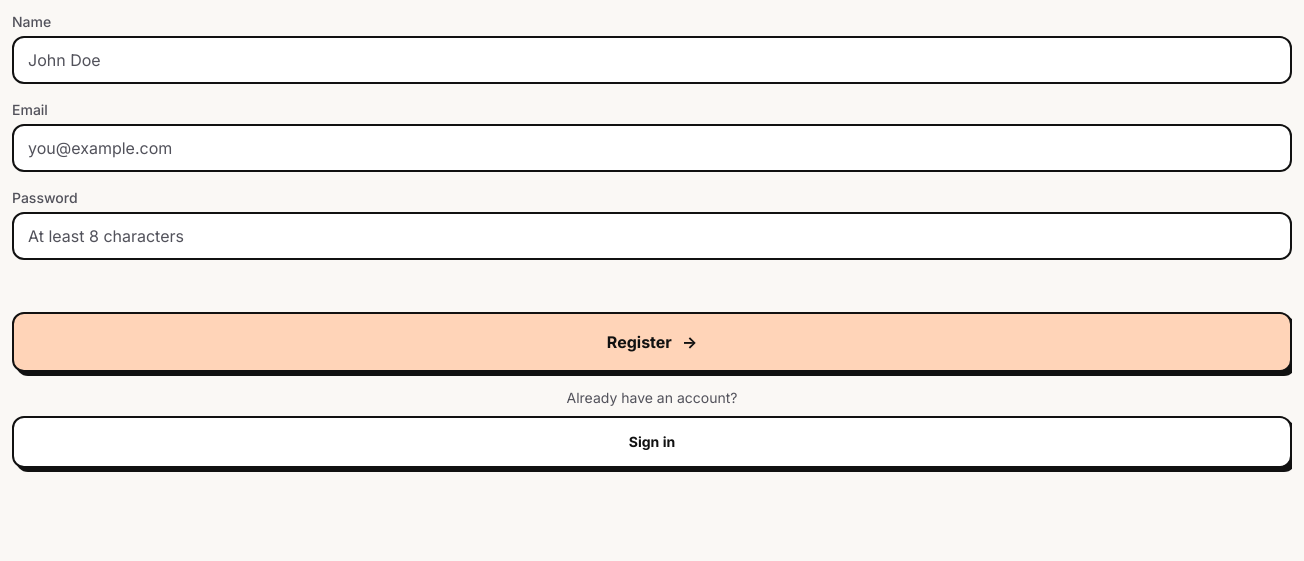
Test case: RegisterForm › should clear a field error when the user edits that field
Click the button "Register →": x=652, y=342 [12,312,1292,372]
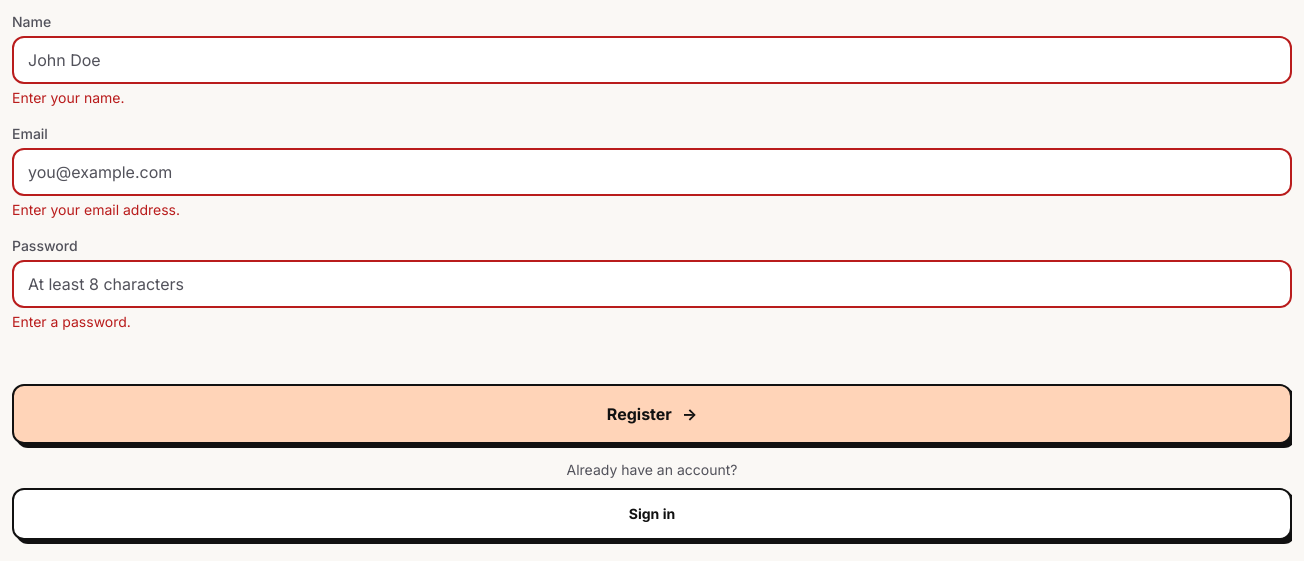
Expected: the text "Enter your name." is shown, [12,89,125,106]
In the field labelled "Name": x=652, y=60 [12,36,1292,84], type "John"
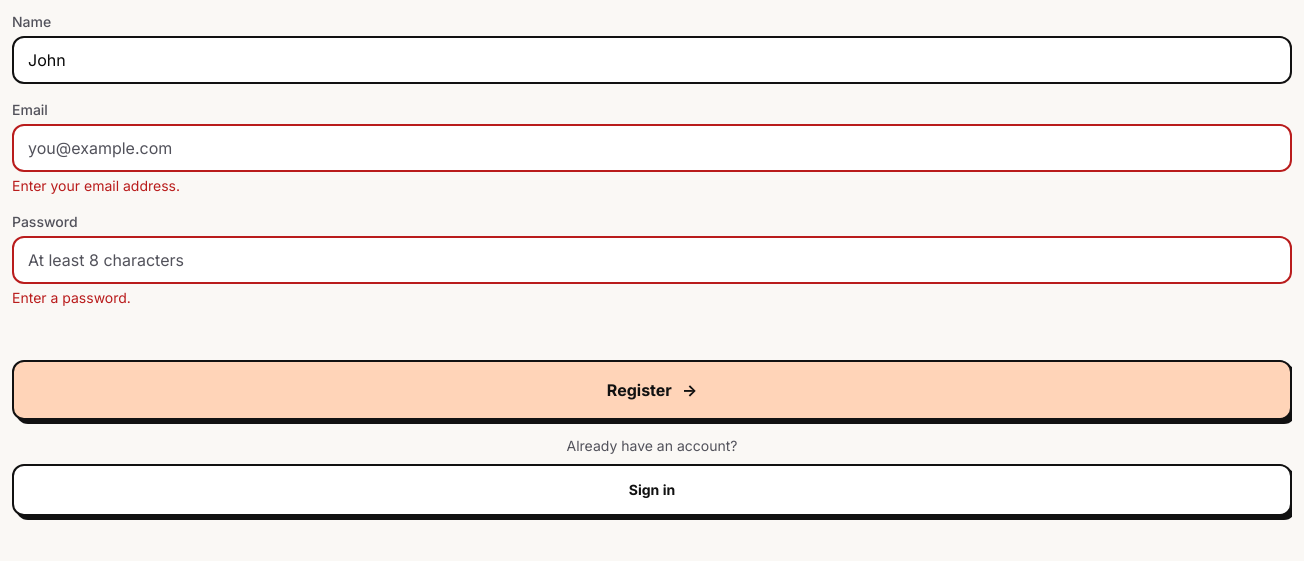
Expected: the text "Enter your name." is gone
